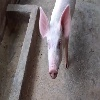heo: (37, 3, 72, 79)
